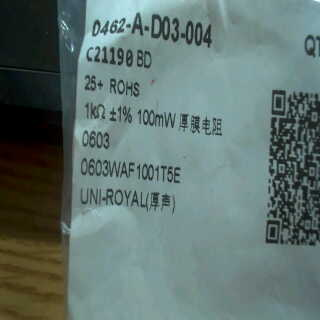1kR: (81, 98, 110, 121)
